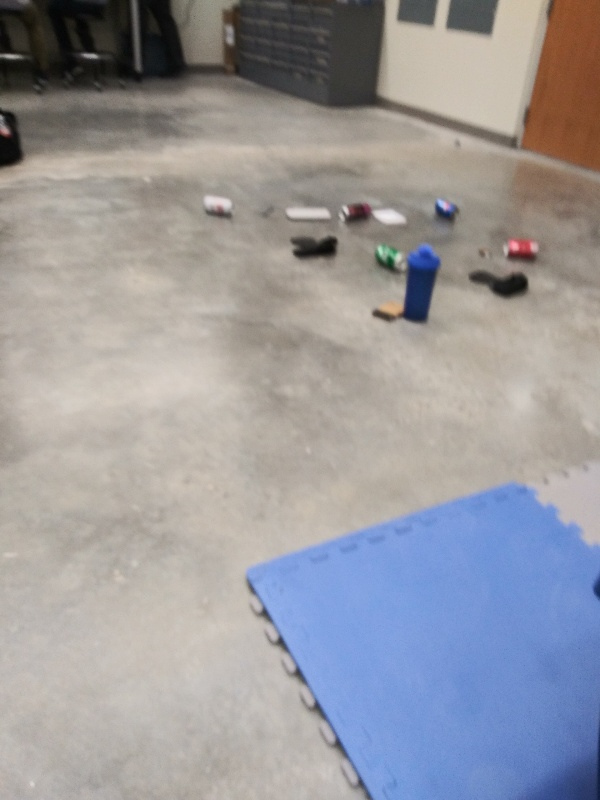can: (372, 241, 410, 273), (499, 237, 543, 259), (200, 192, 237, 218), (432, 194, 462, 223), (338, 200, 374, 224)
